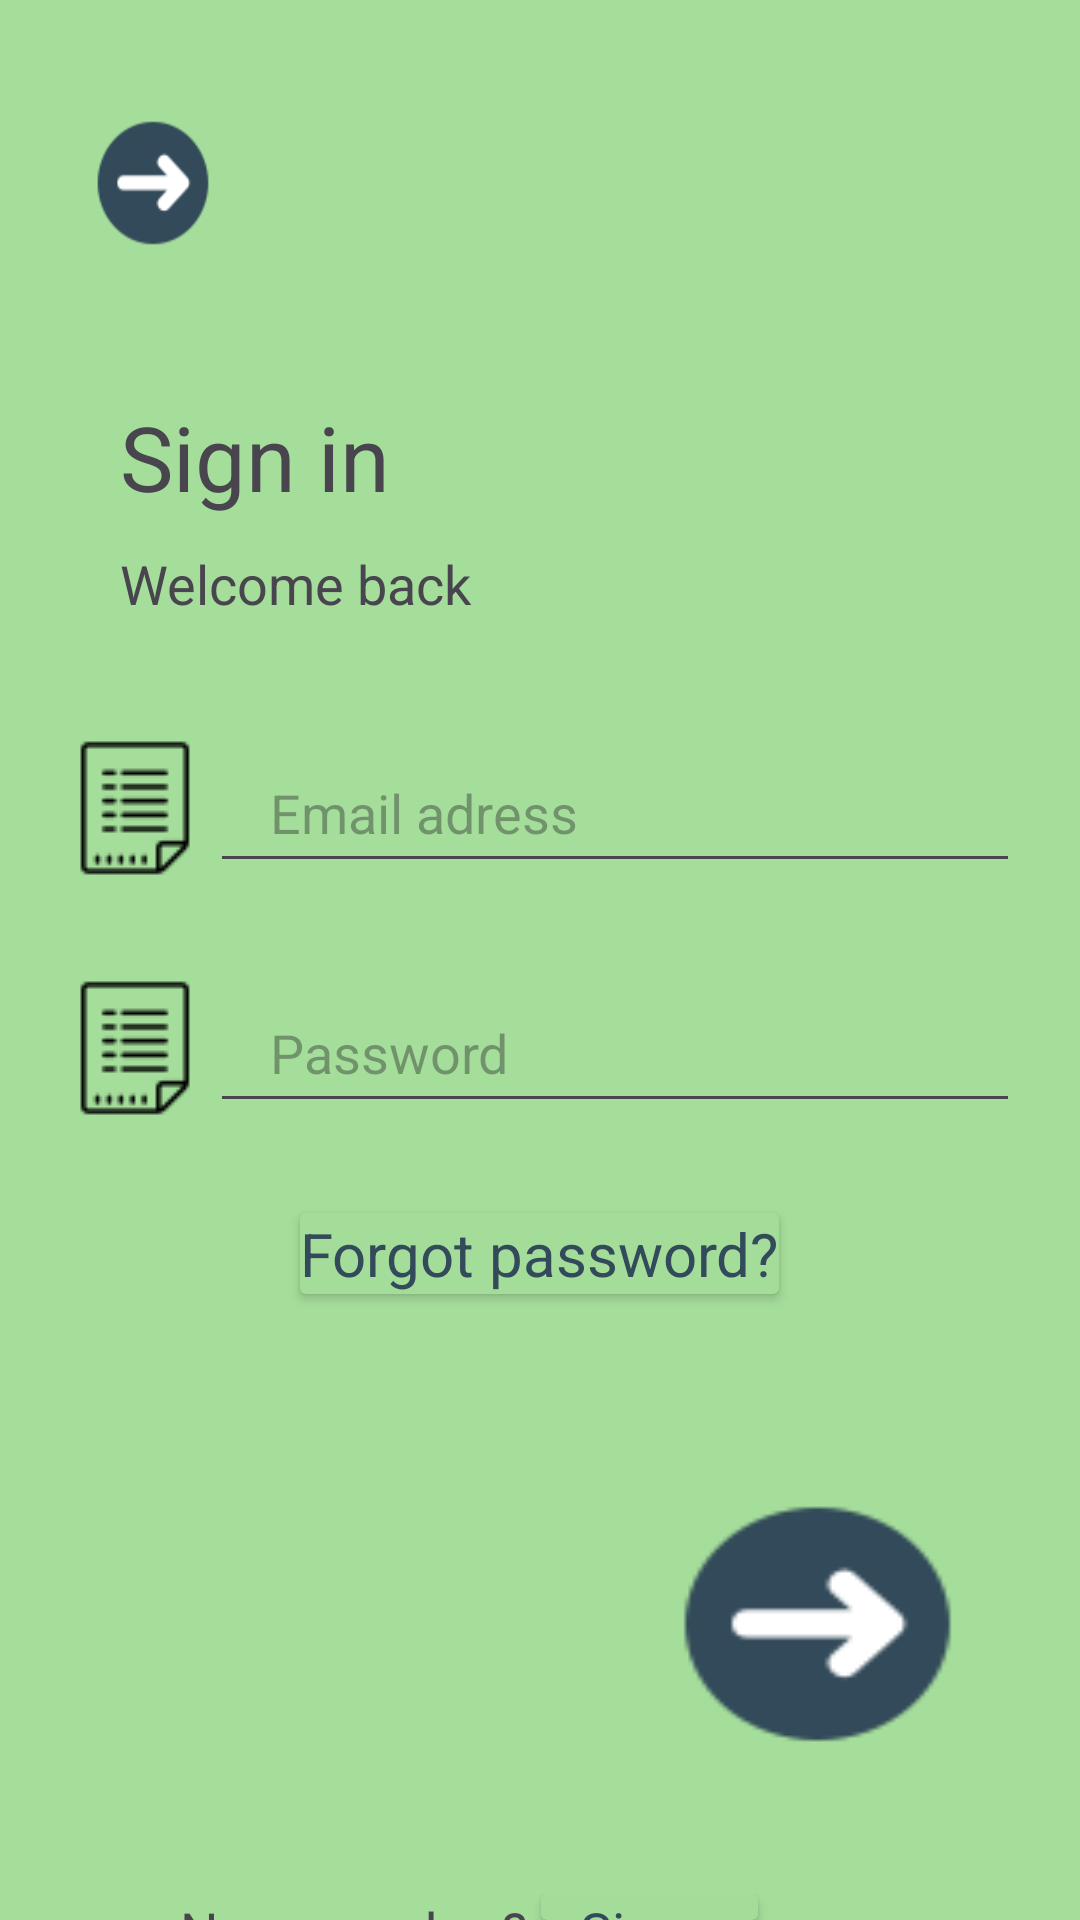

Where to tap for icons on this 1080px x 1920px app screen, as (x=x, y=y):
list: (x=135, y=808), (x=135, y=1048)
right: (x=153, y=183), (x=817, y=1624)
